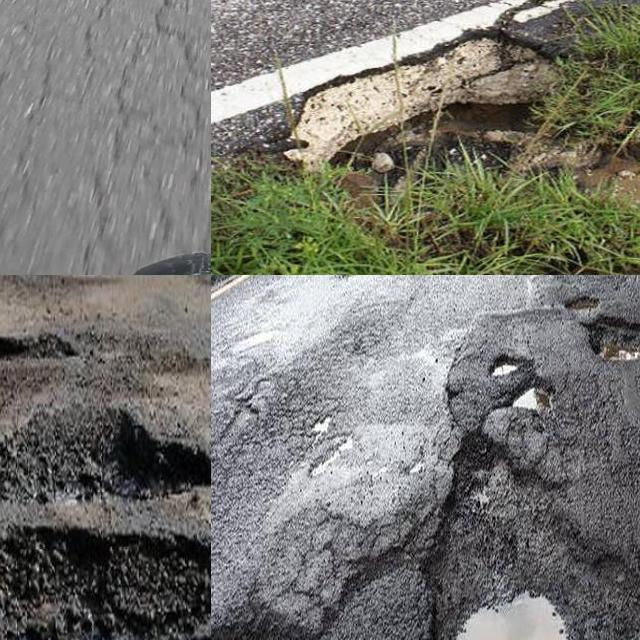Lubang: (0, 397, 211, 513), (0, 526, 211, 640), (432, 568, 579, 640), (585, 317, 640, 369), (0, 337, 79, 364)
Pinggir: (264, 0, 640, 238)
Retak Buaya: (85, 0, 211, 231)
